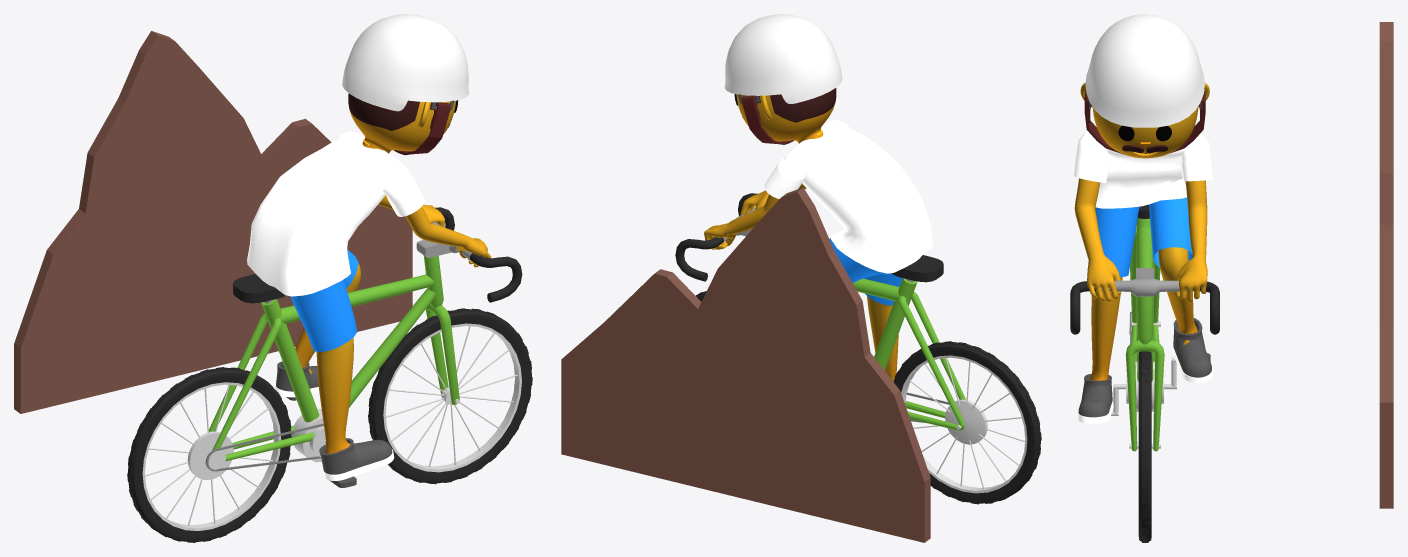
Rendered from man_mountain_biking.glb.
3 views of the same model, side by side, from view 1: azimuth 30°, elevation 25°; view 2: azimuth 150°, elevation 25°; view 3: azimuth 270°, elevation 25° (orthographic). The views are drawn at different scales.
Parts seen in each view (by area): view 1: Plane.118, Circle.221, Circle.222, Cube.315, Roundcube.481, Sphere.456, Circle.227, Sphere.455; view 2: Plane.118, Circle.222, Circle.221, Cube.315, Roundcube.481, Circle.227; view 3: Circle.222, Cube.315, Circle.221, Plane.118, Roundcube.481, Sphere.455, Sphere.456, Circle.227, Circle.223.
Boxes of the visible parts, box(x1,y1,x2,y2) form: Plane.118: box(14, 31, 412, 413); Circle.221: box(127, 207, 532, 542); Circle.222: box(247, 131, 491, 453); Cube.315: box(342, 14, 469, 111); Roundcube.481: box(348, 93, 455, 153); Sphere.456: box(319, 438, 394, 480); Circle.227: box(394, 102, 450, 155); Sphere.455: box(274, 361, 319, 397); Plane.118: box(561, 187, 930, 542); Circle.222: box(704, 120, 932, 381); Circle.221: box(675, 193, 1041, 504); Cube.315: box(724, 14, 842, 103); Roundcube.481: box(736, 88, 836, 143); Circle.227: box(741, 96, 793, 144); Circle.222: box(1073, 123, 1212, 380); Cube.315: box(1085, 14, 1204, 127); Circle.221: box(1070, 204, 1219, 542); Plane.118: box(1379, 22, 1393, 508); Roundcube.481: box(1092, 106, 1198, 158); Sphere.455: box(1172, 318, 1212, 383); Sphere.456: box(1077, 373, 1113, 423); Circle.227: box(1084, 91, 1205, 154); Circle.223: box(1118, 125, 1171, 141).
Size of the model in its own units: 2.06 by 2.3 by 1.38.
Materials: 2 (2 with a texture image).
